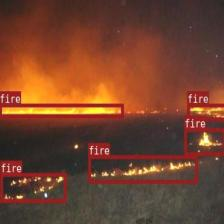fire: (88, 155, 198, 182), (0, 172, 66, 202), (0, 103, 124, 117), (183, 128, 224, 154), (186, 103, 224, 119)
